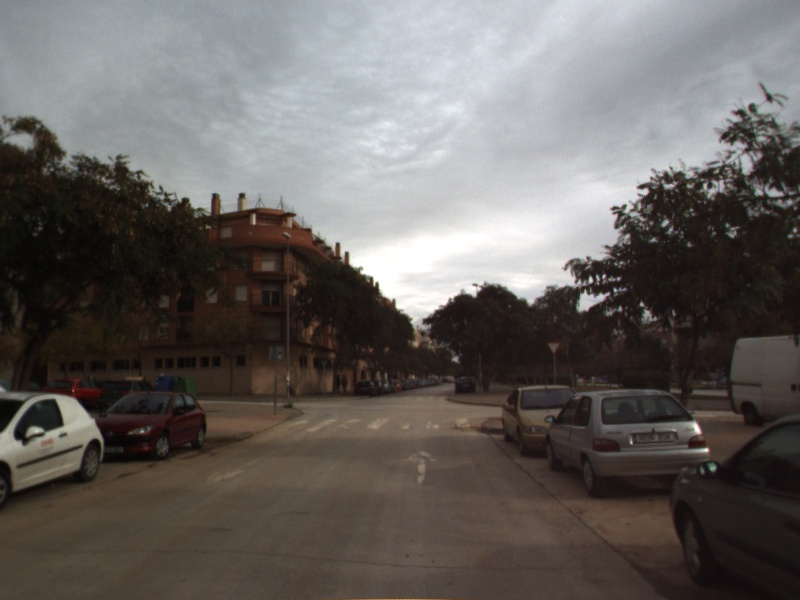STRAIGHT: (401, 448, 441, 486)
